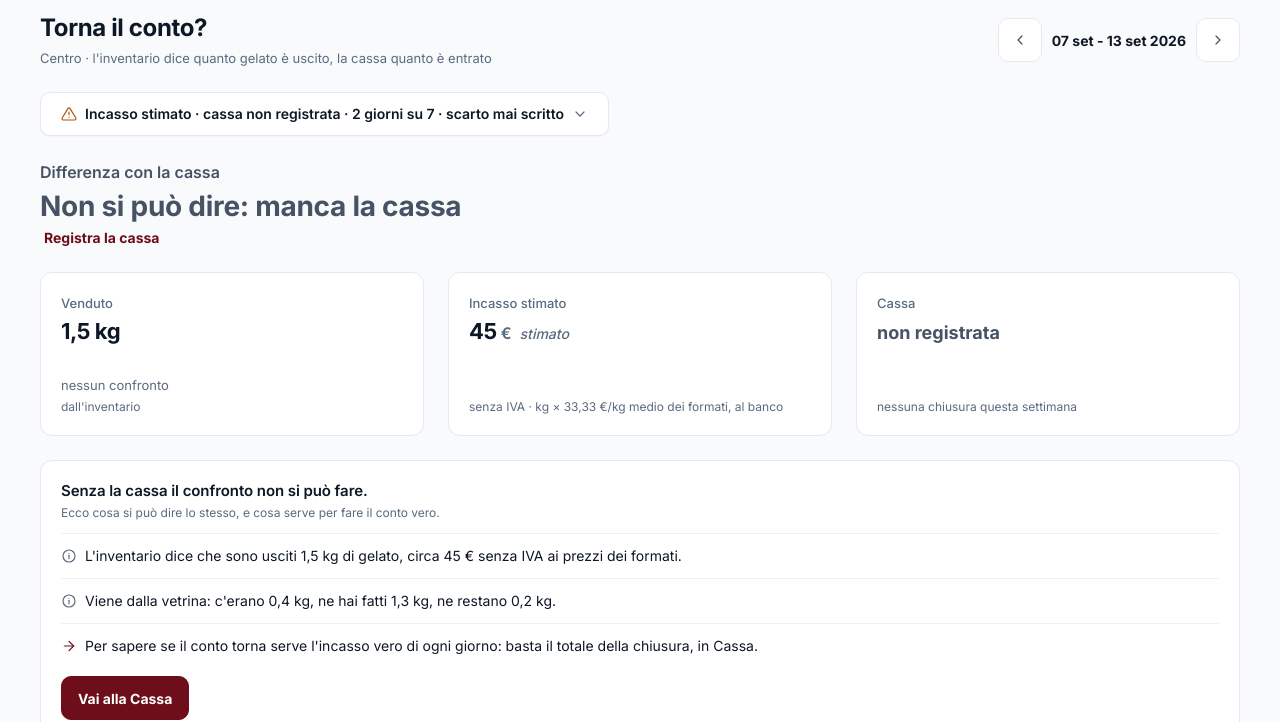
Test: La pagina si apre con la domanda, la settimana in una riga e la copertura › in un'altra settimana compare «Questa settimana», e ci riporta
Click the button named "Settimana precedente" at (1020, 40), box [998,18,1042,62]
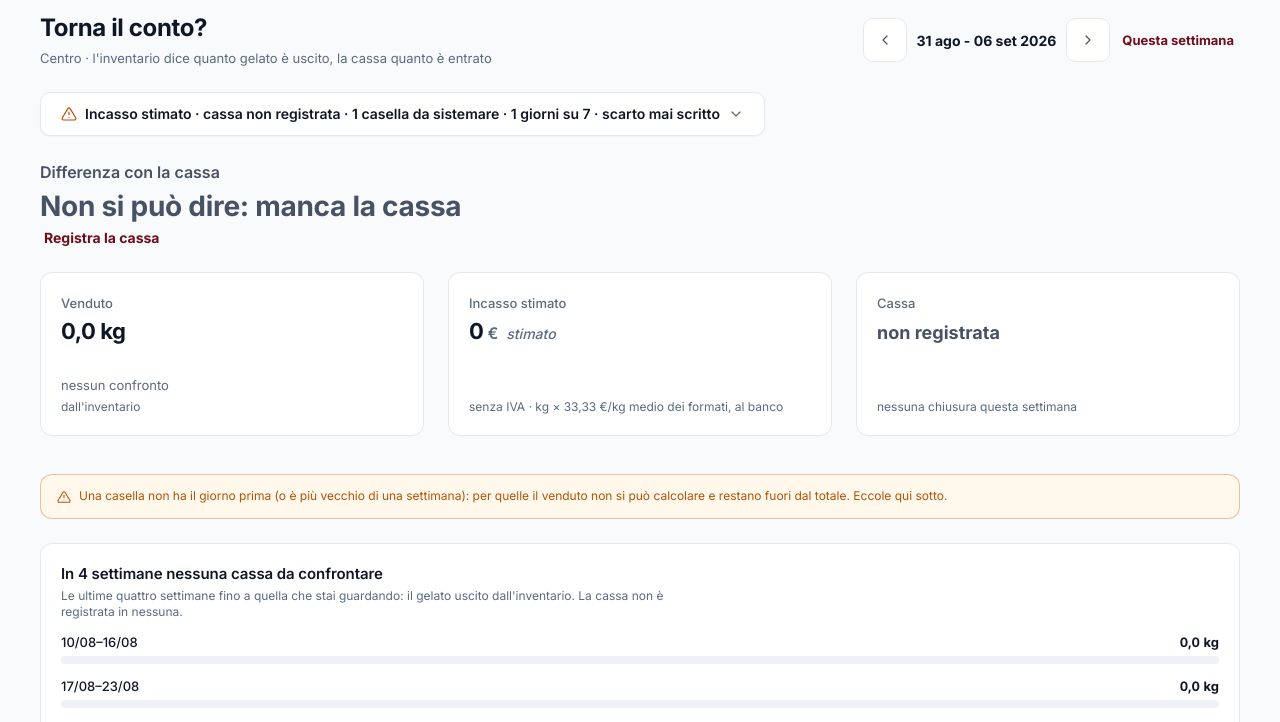
expect the text "31 ago - 06 set 2026" is shown: met, box [913,32,1060,48]
Click the button with aria-label "Settimana corrente" at (1178, 40), box [1116,18,1240,62]
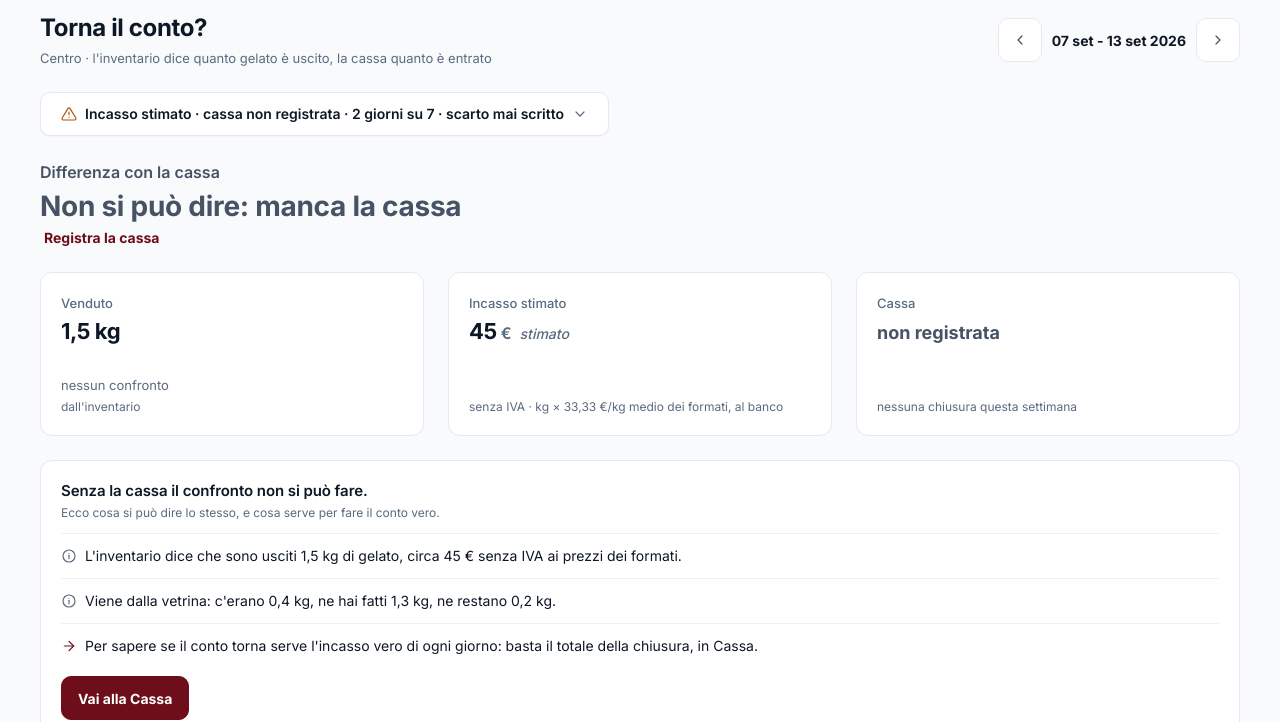
expect the text "07 set - 13 set 2026" is shown: met, box [1048,32,1190,48]
